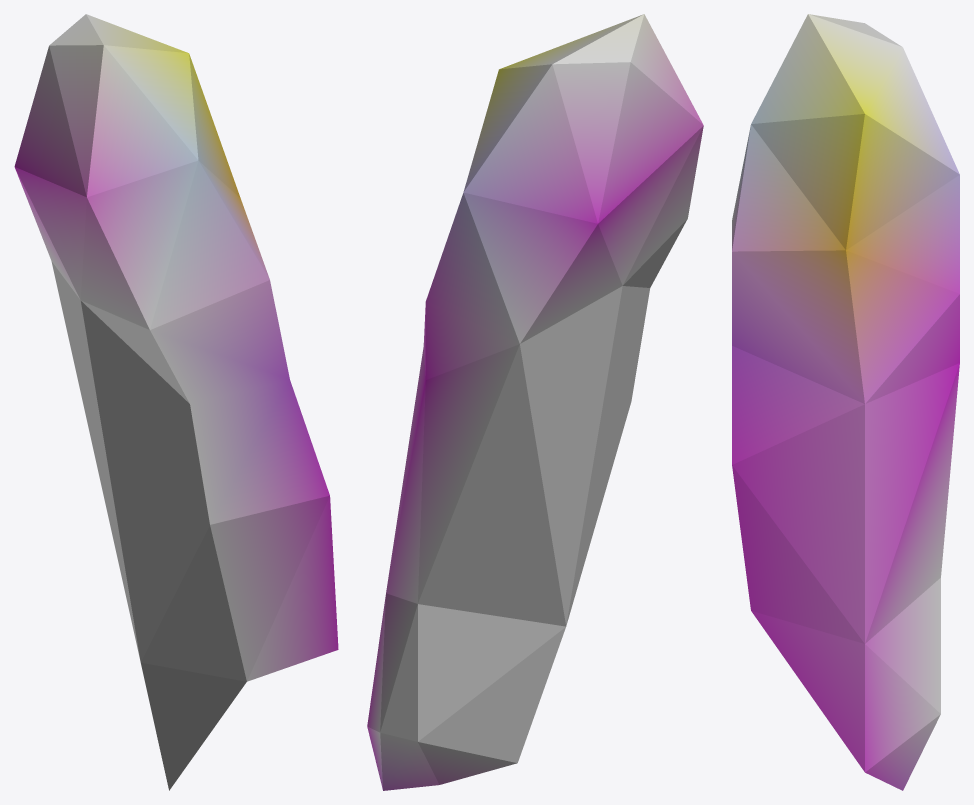
The picture shows the model from 3 angles, left to right: view 1: azimuth 30°, elevation 25°; view 2: azimuth 150°, elevation 25°; view 3: azimuth 270°, elevation 25°; orthographic projection. The views are drawn at different scales.
Visible parts, largest first — view 1: model_11AF; view 2: model_11AF; view 3: model_11AF.
Part boxes in pixels (left/top/right/bottom): model_11AF: left=14, top=14, right=338, bottom=790; model_11AF: left=367, top=14, right=703, bottom=790; model_11AF: left=732, top=14, right=959, bottom=790.
Size of the model in its own units: 15 by 40 by 12.
